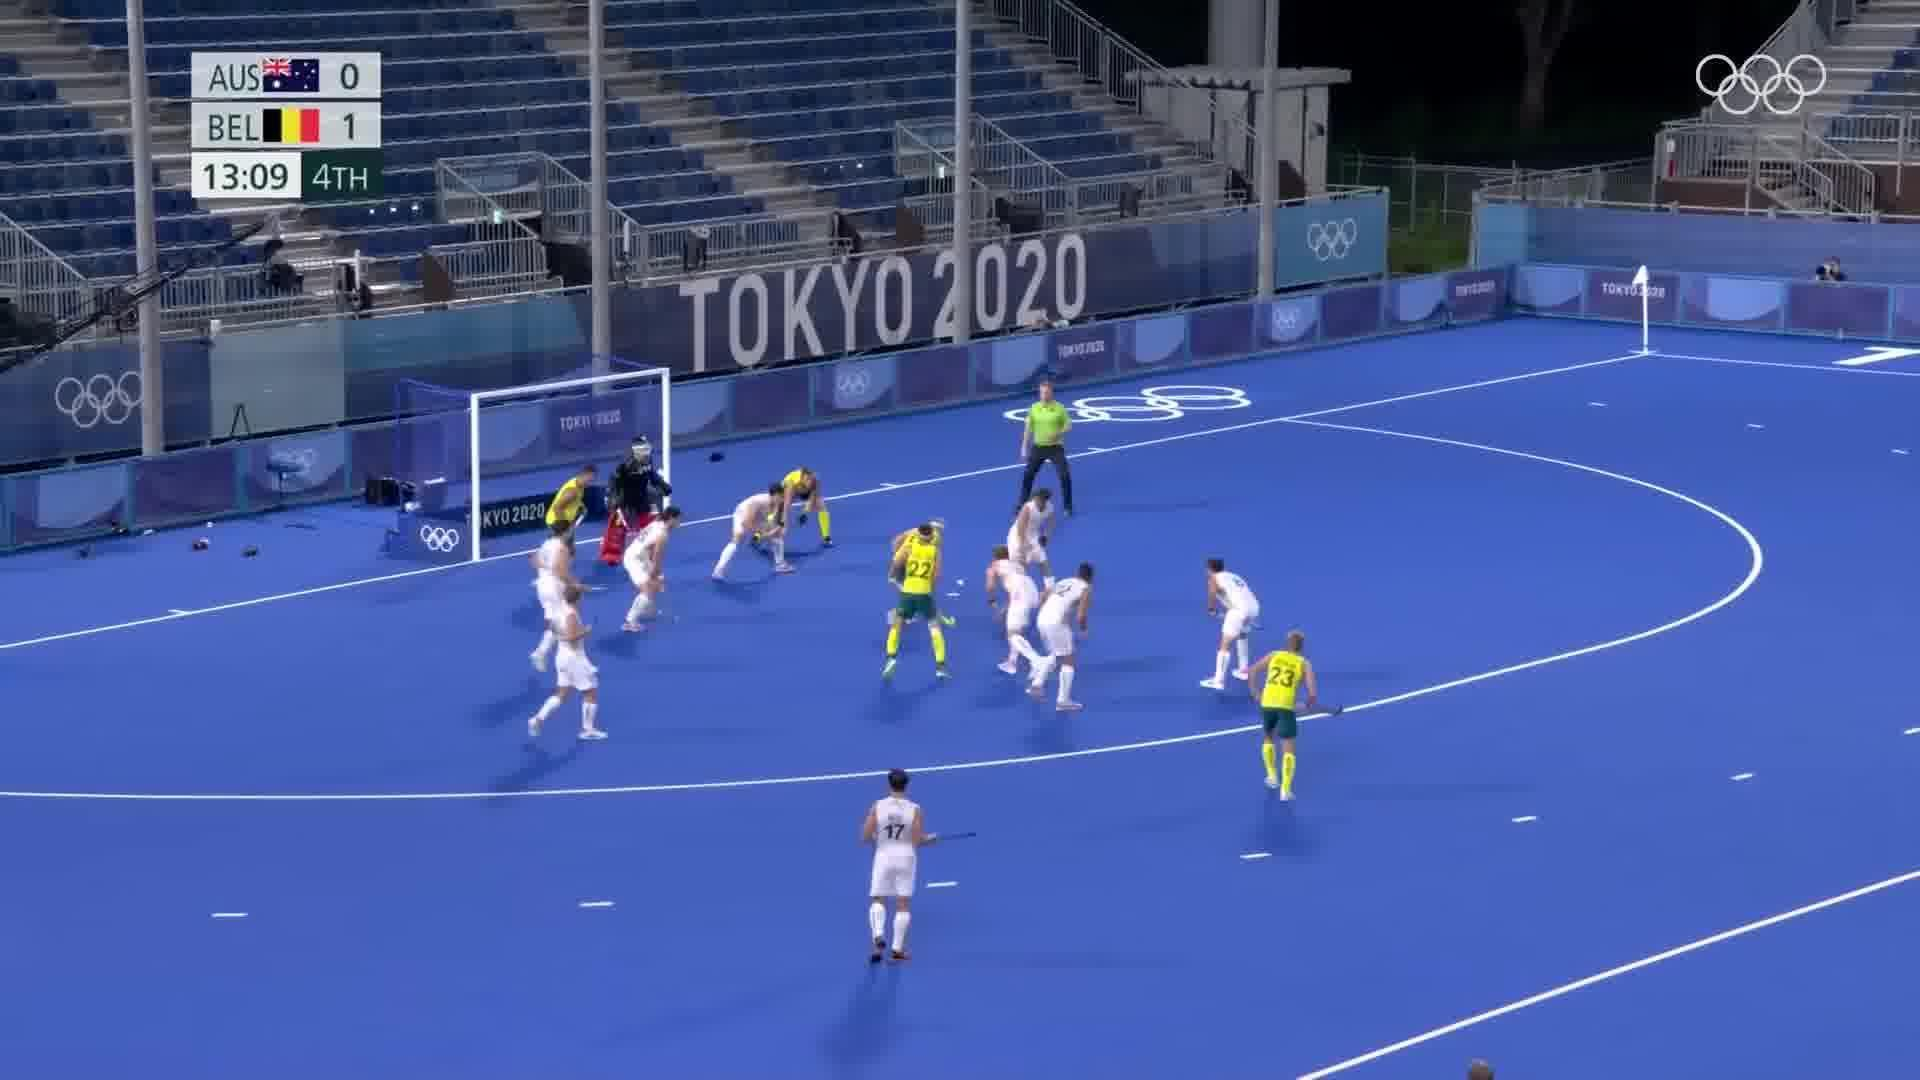ball: (954, 577, 968, 588)
